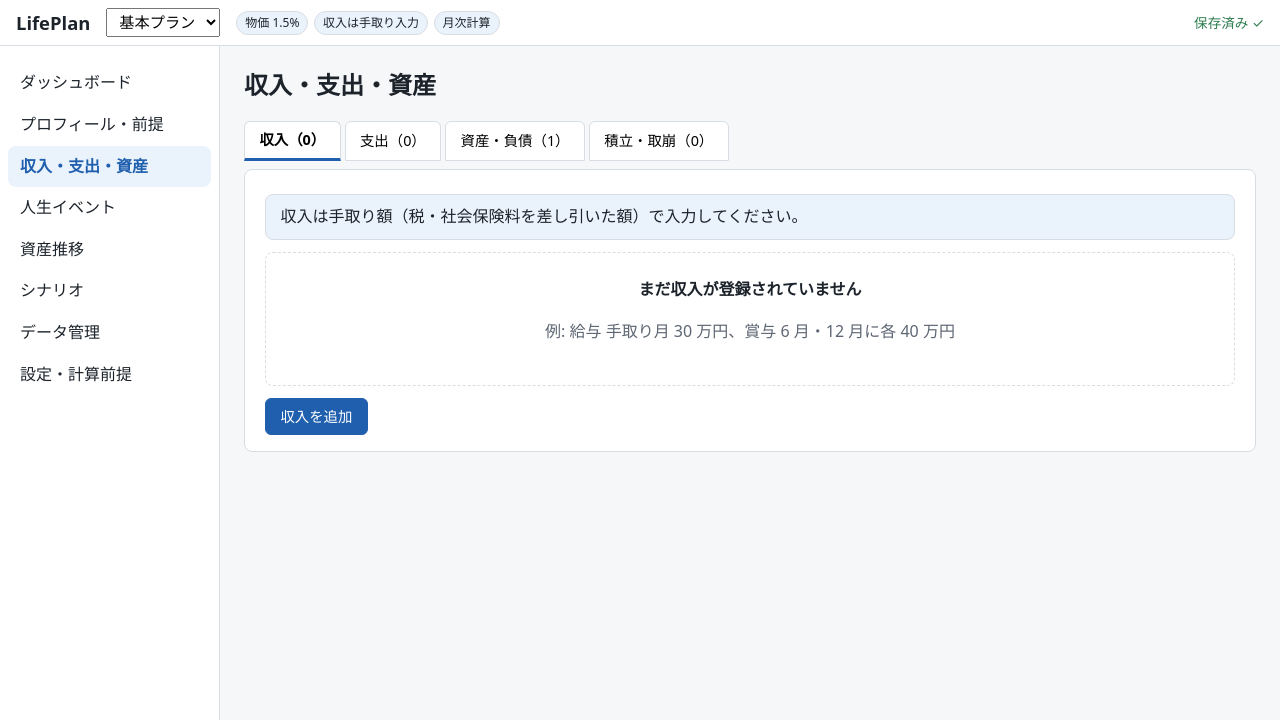
画面の基本操作 › 金額に文字を入れるとエラー表示
The image size is (1280, 720).
Expected: the message "保存済み ✓" is shown, top-left (1194, 12), bottom-right (1264, 34)
Click the button "収入を追加": [316, 416] box top-left (265, 398), bottom-right (368, 435)
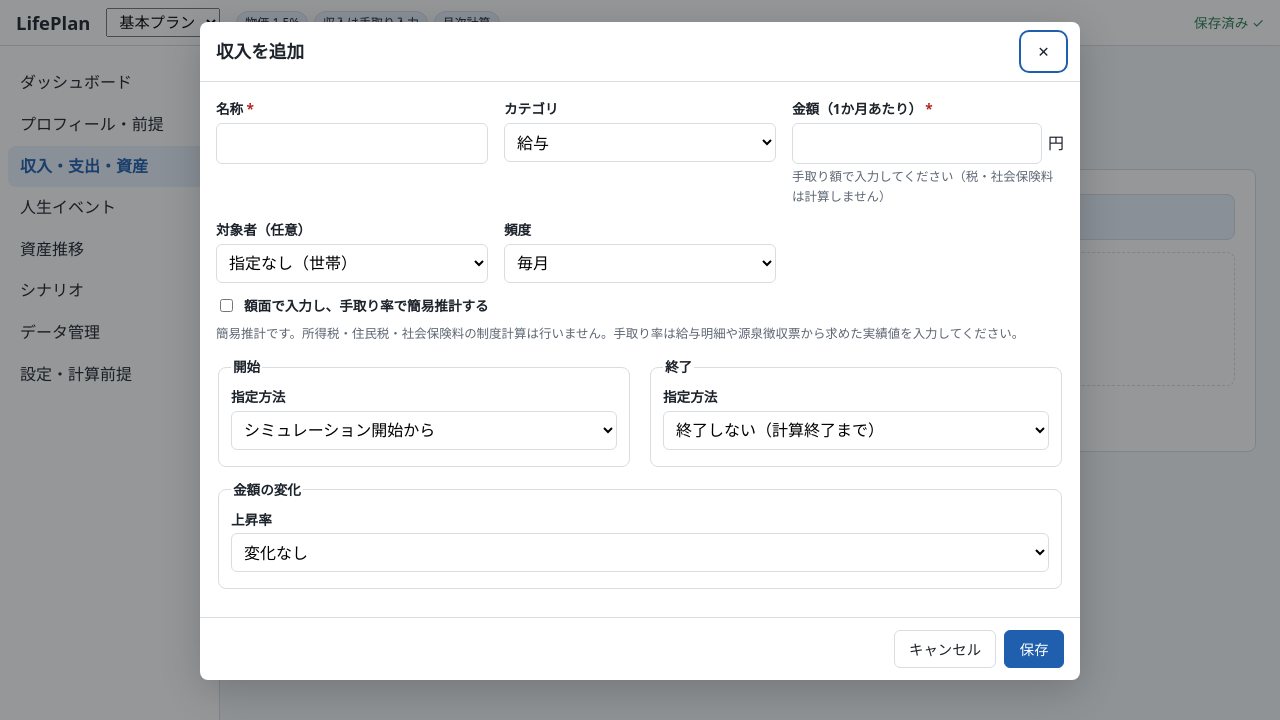
In the field labelled "名称*": [352, 144] box top-left (216, 123), bottom-right (488, 164), type "給与"
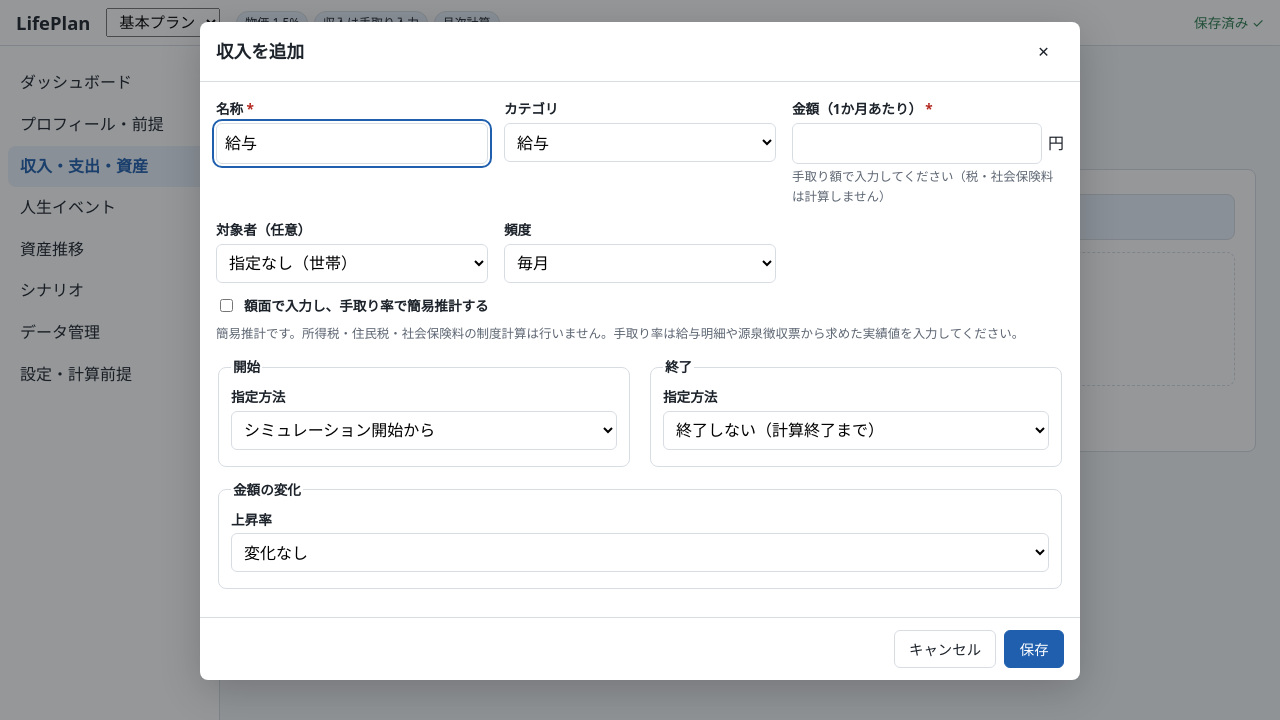
In the field labelled "金額（1か月あたり）*": [917, 144] box top-left (792, 123), bottom-right (1042, 164), type "abc"
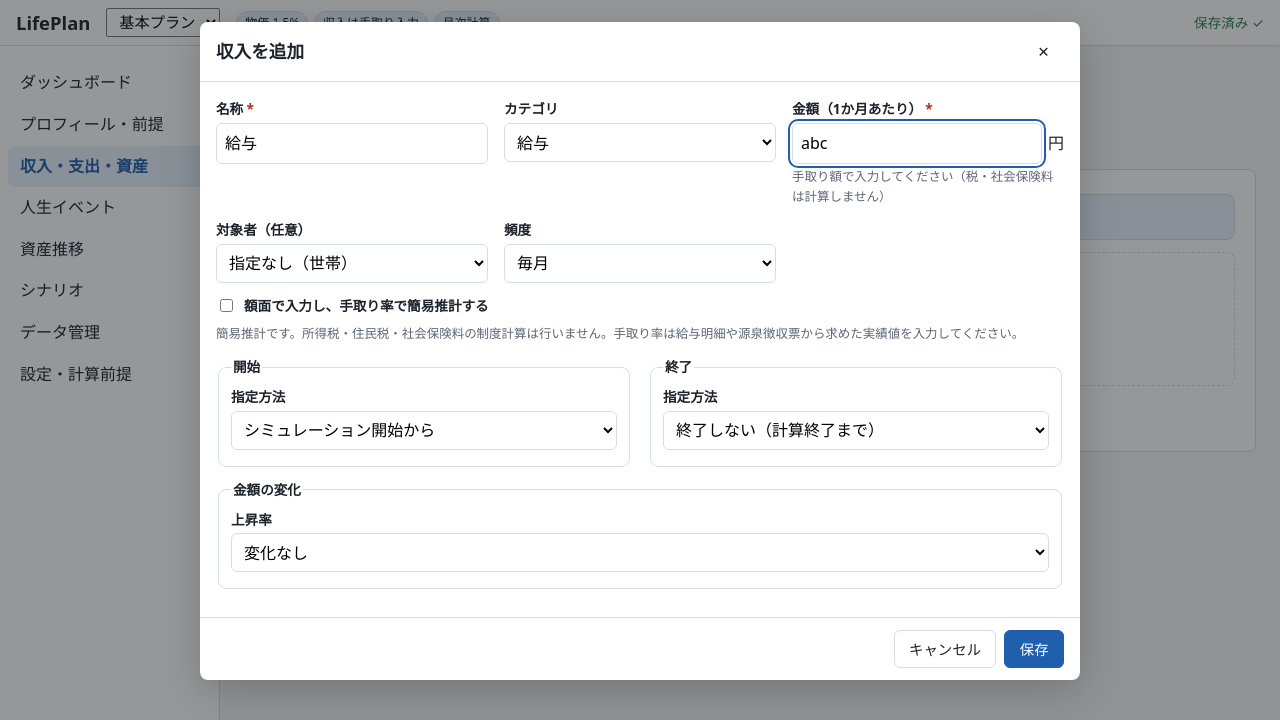
Click the button "保存": [1034, 649] box top-left (1004, 630), bottom-right (1064, 668)
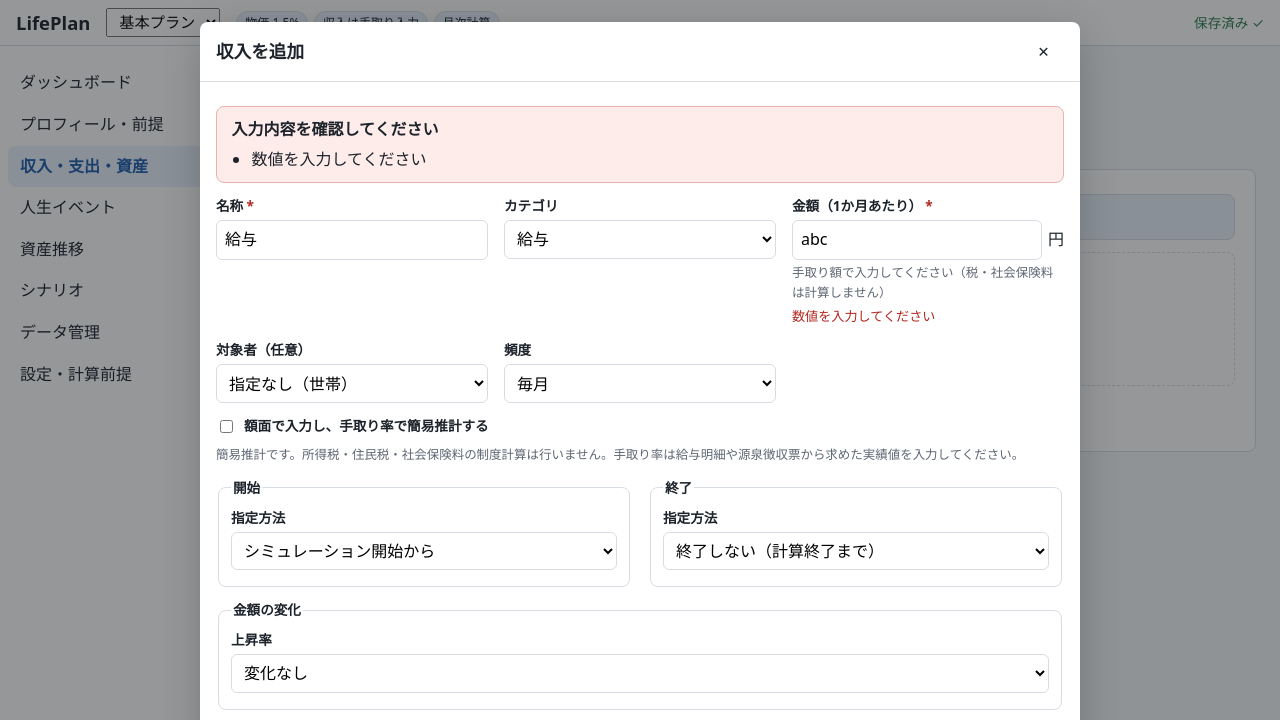
Now the list item "数値を入力してください" is shown, box top-left (251, 148), bottom-right (426, 170)
